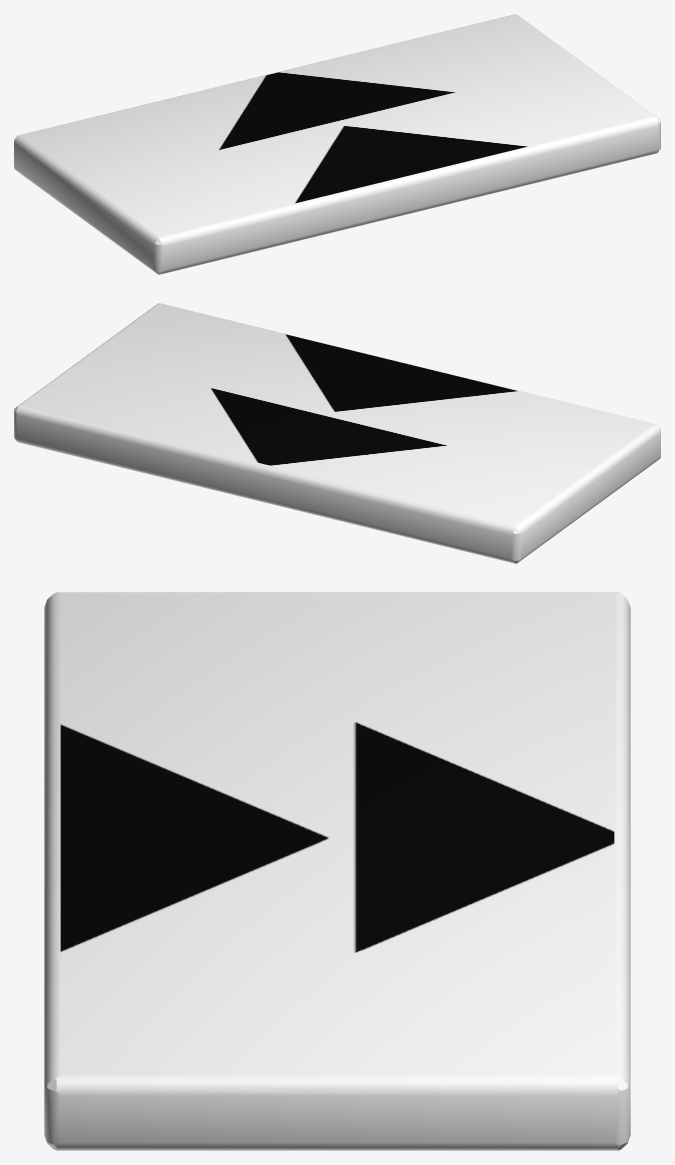
Rendered from derivery.FBX.
3 views of the same model, one above another, from view 1: azimuth 30°, elevation 25°; view 2: azimuth 150°, elevation 25°; view 3: azimuth 270°, elevation 25° (orthographic). The views are drawn at different scales.
Parts seen in each view (by area): view 1: Box001; view 2: Box001; view 3: Box001.
Boxes of the visible parts, left/top/right/bottom form: Box001: left=14, top=14, right=660, bottom=274; Box001: left=14, top=303, right=660, bottom=563; Box001: left=44, top=592, right=630, bottom=1150.
Bounding box in the file's own units: 280 × 140 × 20.
Materials: 1 (1 with a texture image).
